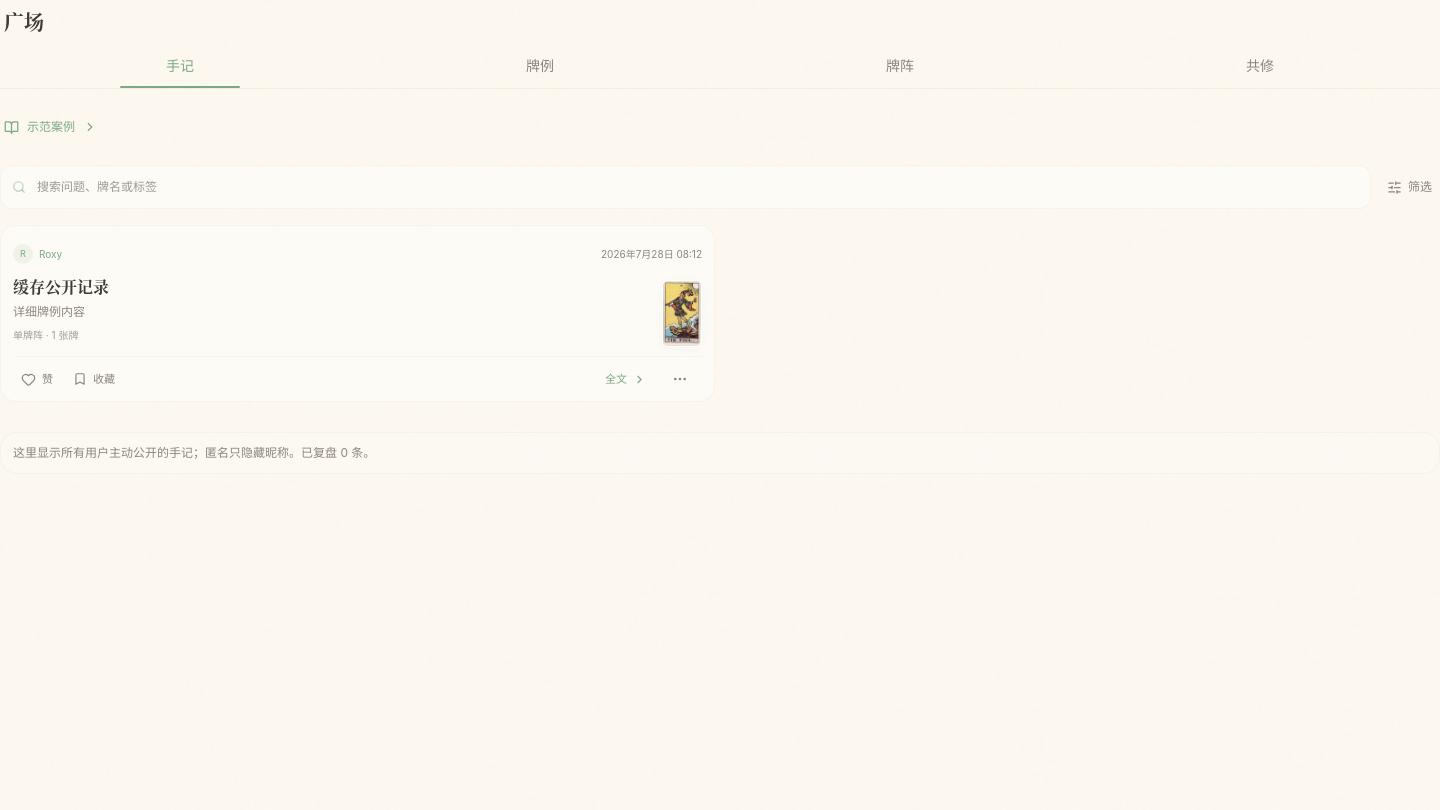
Test case: PublicTab › opens card examples directly and keeps filtering behind its entry
Check: the heading "缓存公开记录" is shown, box [13,275,109,298]
Check: the button "全部标签" is not shown
Click the button with aria-label "收藏研习" at (94, 379), box [65,357,123,401]
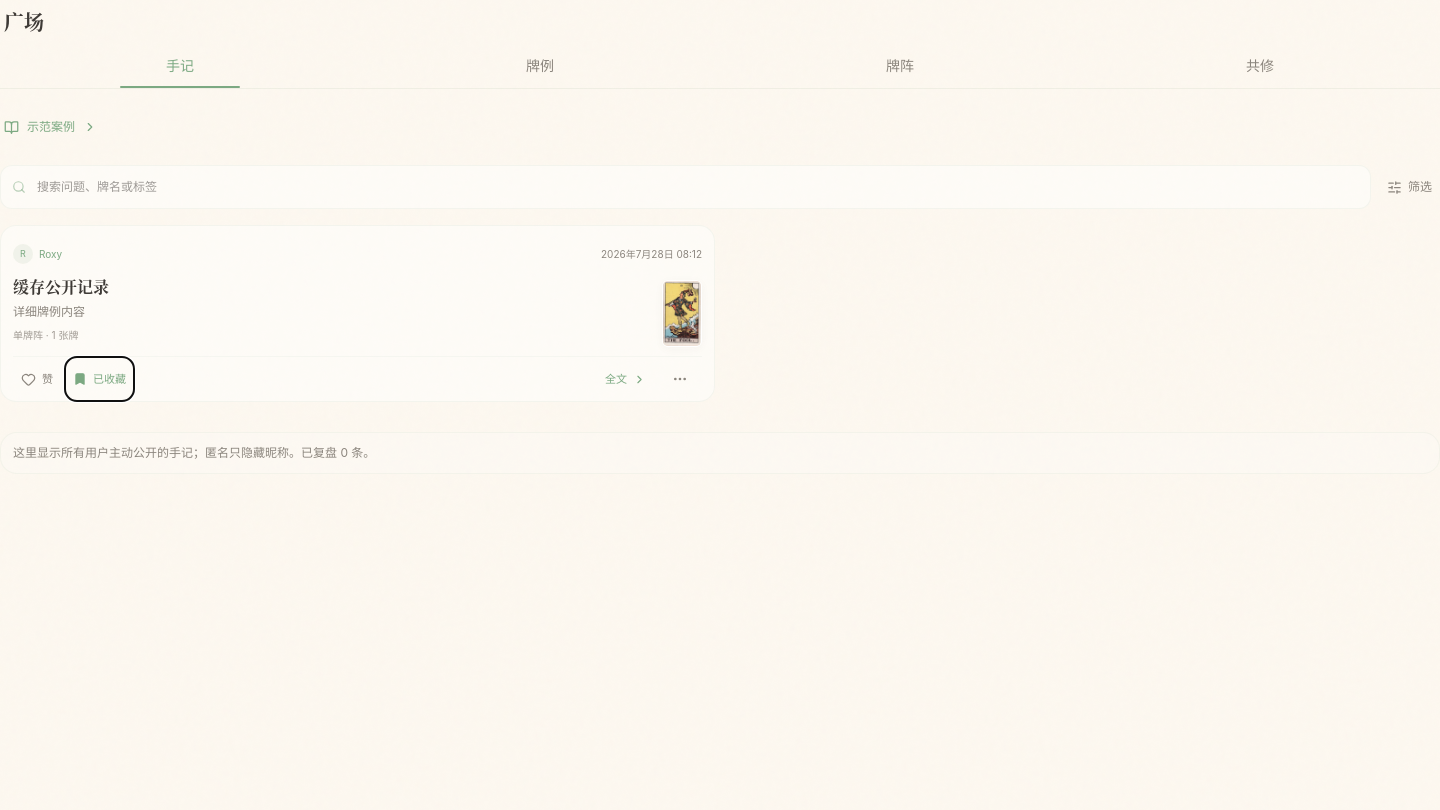
Click the button with aria-label "筛选手记" at (1410, 187), box [1379,165,1439,209]
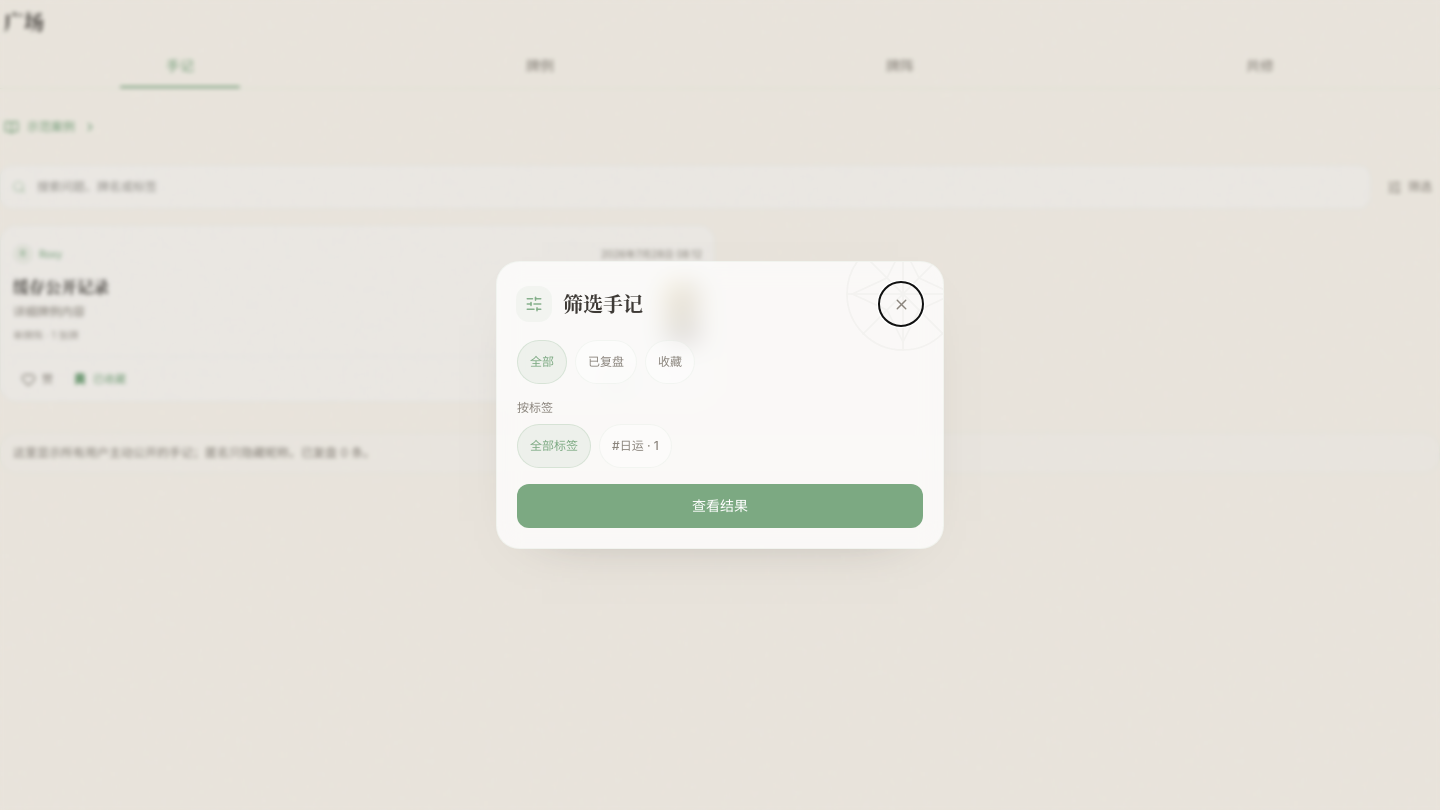
Click the button "收藏" at (670, 362), box [645,340,695,384]
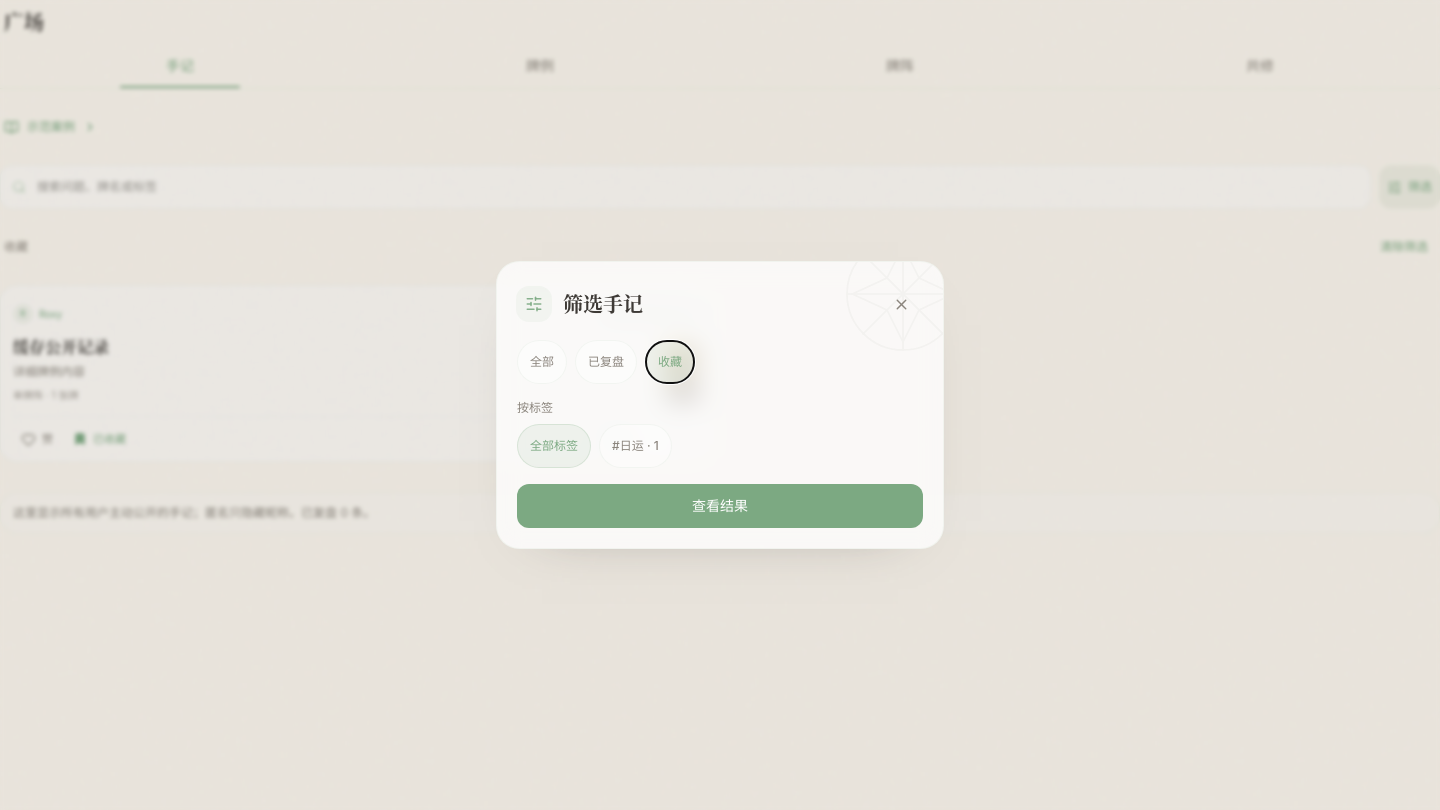
Click the button "查看结果" at (720, 506), box [517,484,923,528]
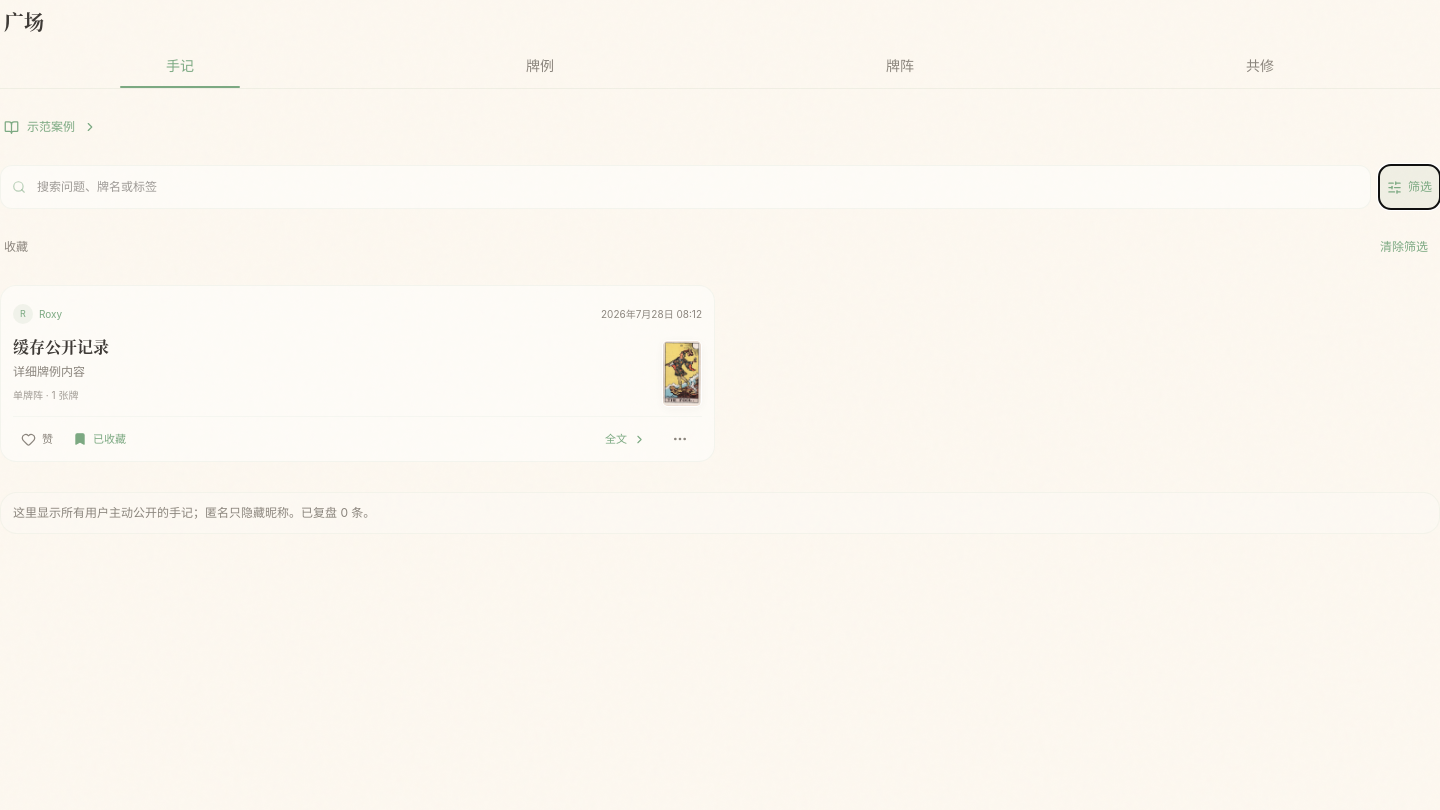
Check: the heading "缓存公开记录" is shown, box [13,335,109,358]
Click the tab "牌例" at (540, 66), box [360,44,720,88]
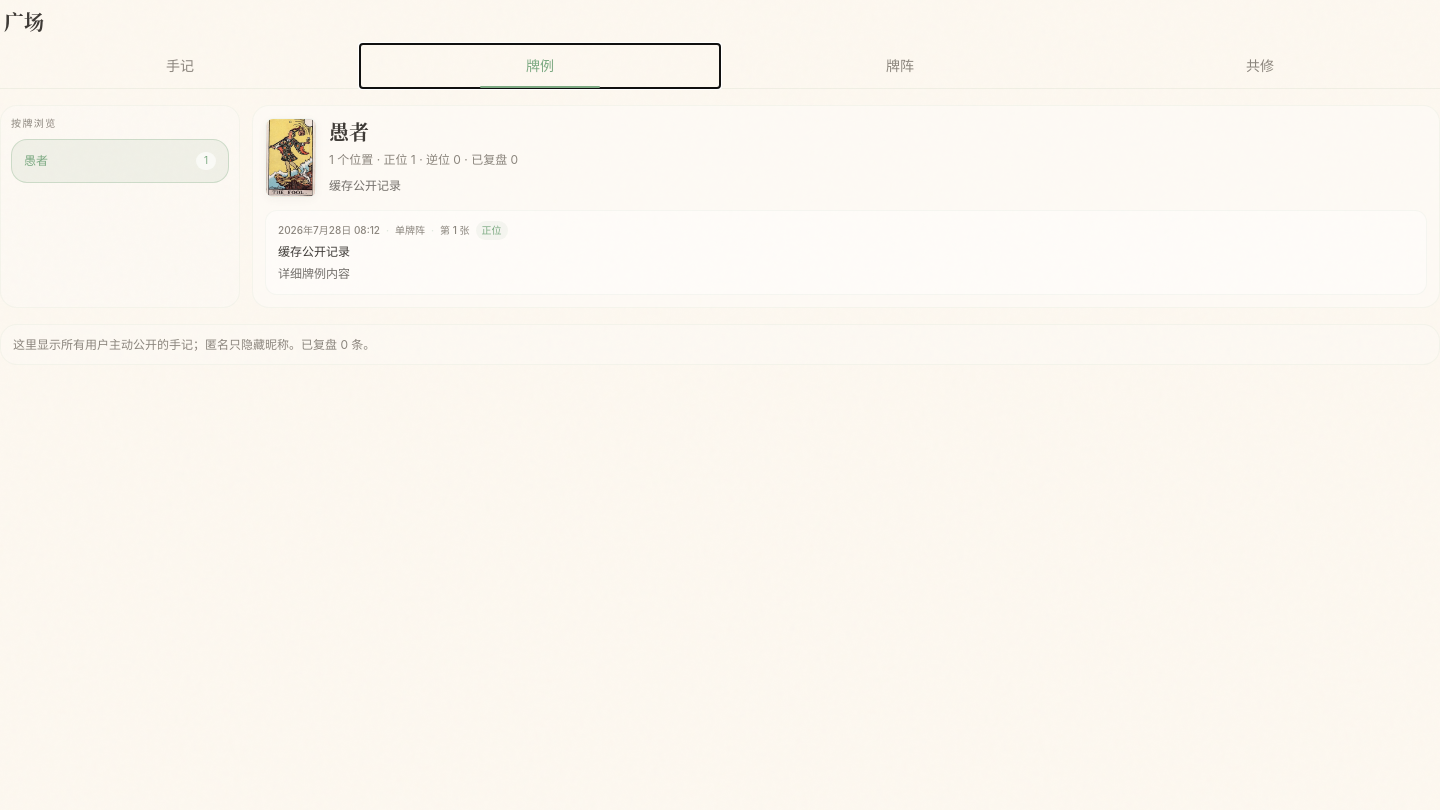
Click the text "详细牌例内容" at (314, 274), box [278,266,350,281]
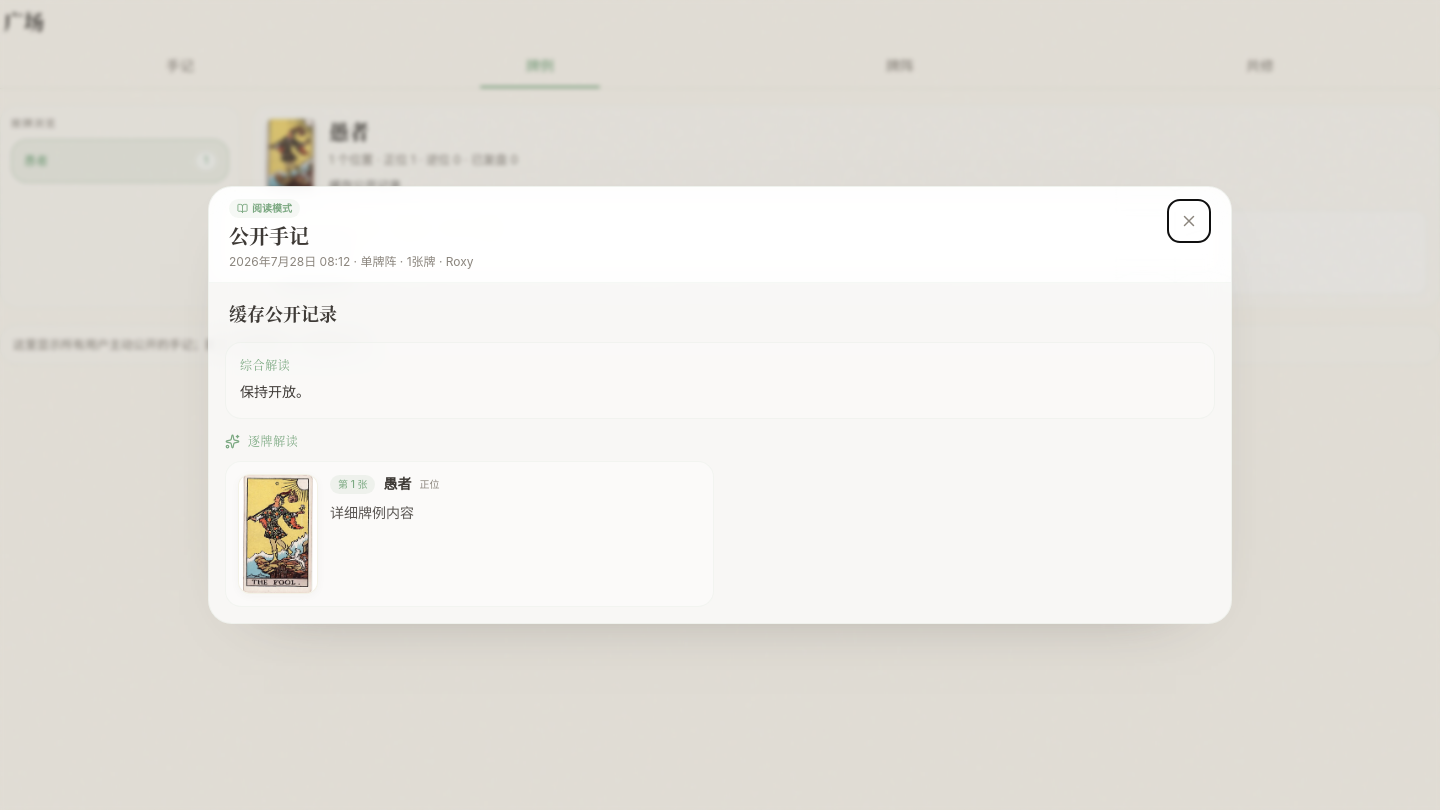
Check: the dialog "缓存公开记录" is shown, box [208,186,1232,624]
